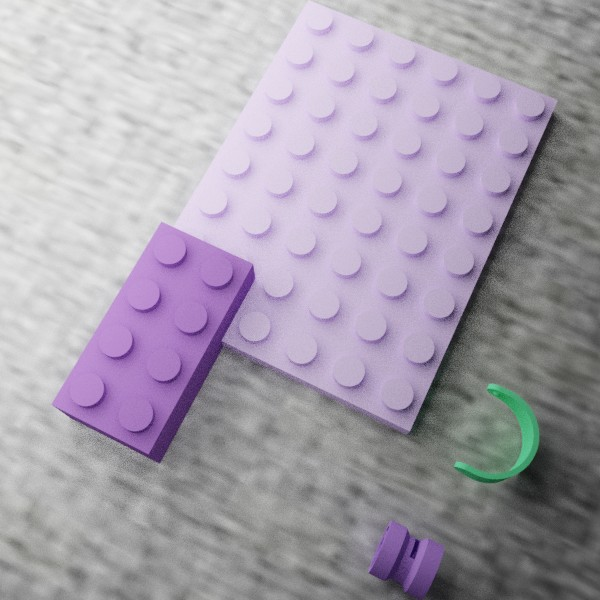lego: (131, 0, 557, 435), (51, 221, 256, 463), (453, 383, 539, 483), (367, 520, 444, 600)
